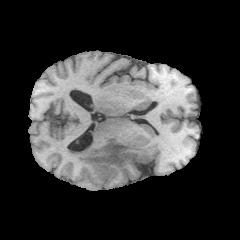glioma: (67, 137, 128, 176)
